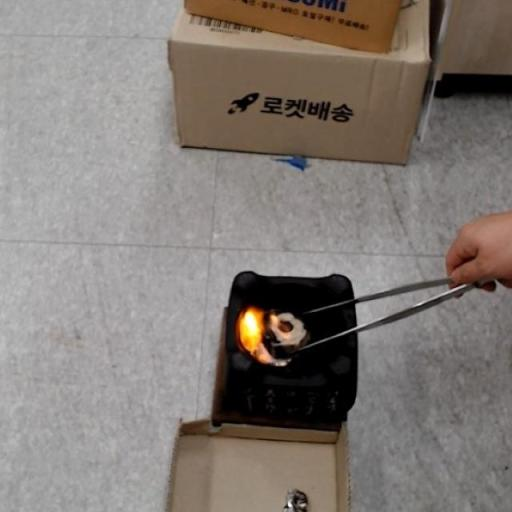smoke: (235, 305, 280, 359)
